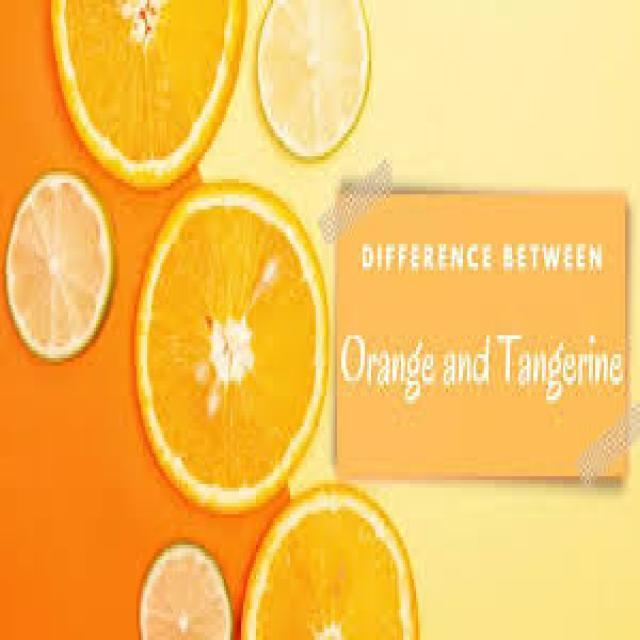non-mango: (133, 180, 329, 513)
